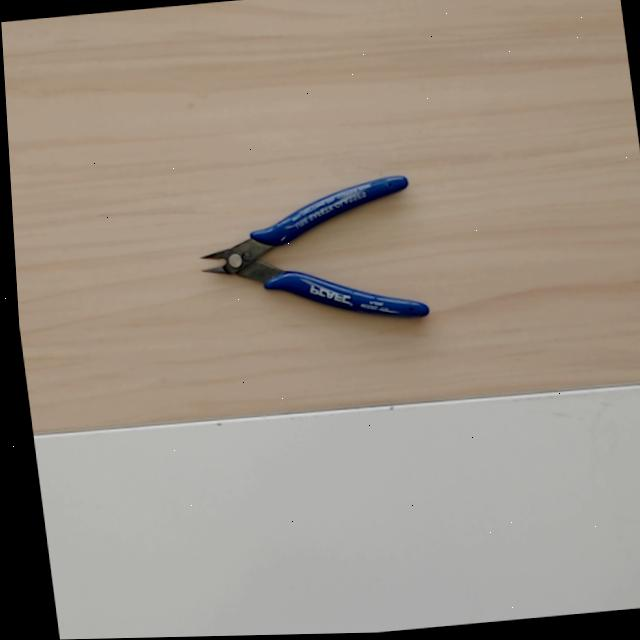Tang-Potong-Biru: (189, 172, 432, 353)
